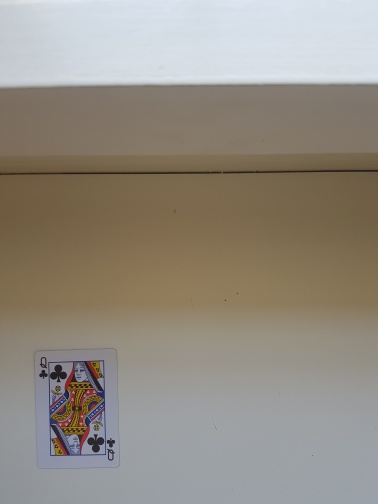queen: (34, 348, 119, 471)
